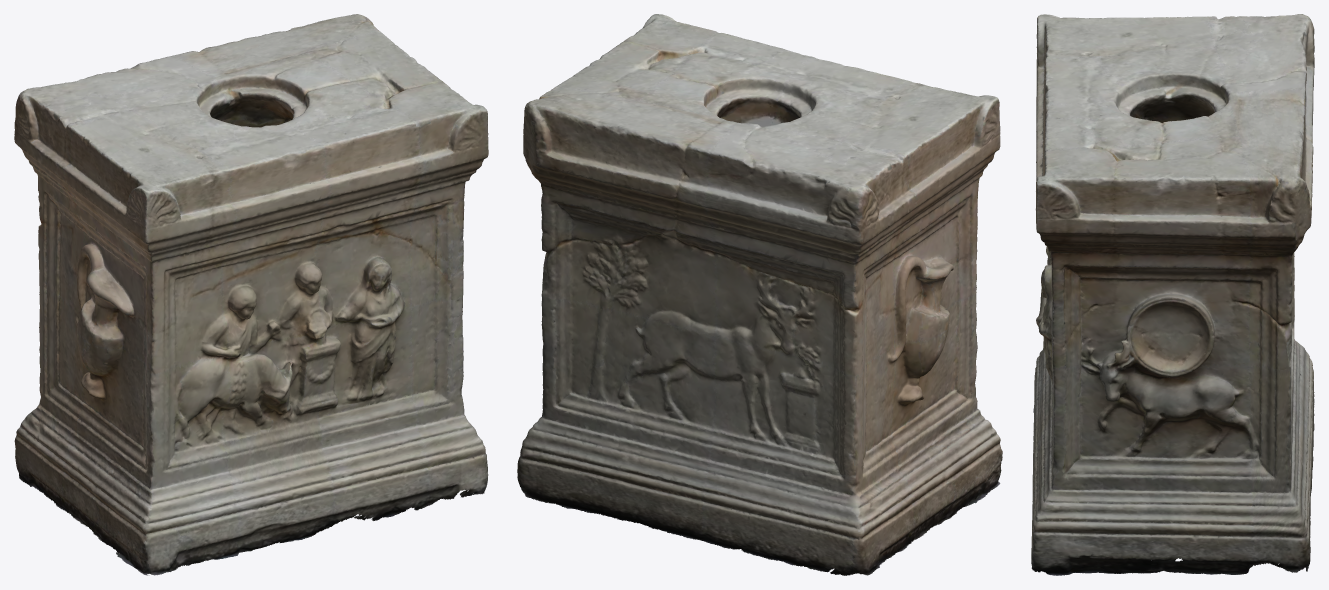
Rendered from altar_for_diana.glb.
3 views of the same model, side by side, from view 1: azimuth 30°, elevation 25°; view 2: azimuth 150°, elevation 25°; view 3: azimuth 270°, elevation 25° (orthographic). The views are drawn at different scales.
Visible parts, largest first — view 1: Object_3; view 2: Object_3; view 3: Object_3.
Boxes of the visible parts, x1=… form: Object_3: x1=14, y1=14, x2=488, y2=575; Object_3: x1=517, y1=14, x2=1002, y2=575; Object_3: x1=1031, y1=14, x2=1314, y2=575.
Size of the model in its own units: 11.21 by 11.94 by 7.69.
1 material, 1 textured.
